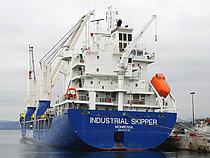Ship: (17, 5, 181, 156)
